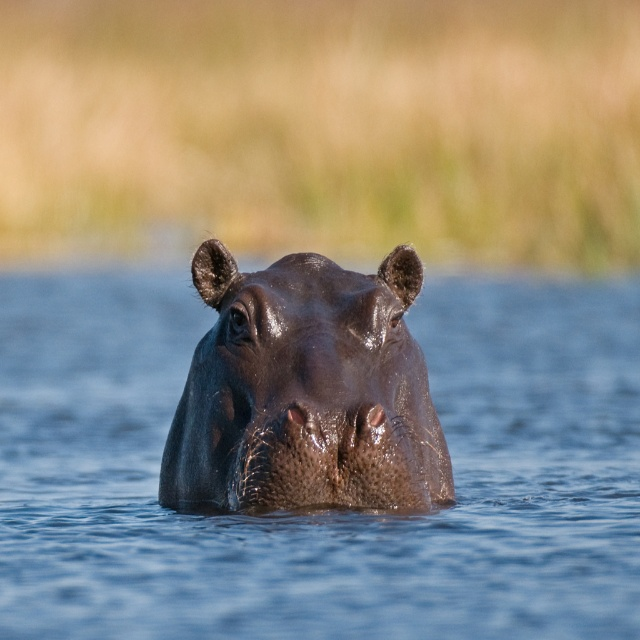Hippopotamus: (160, 232, 457, 510)
